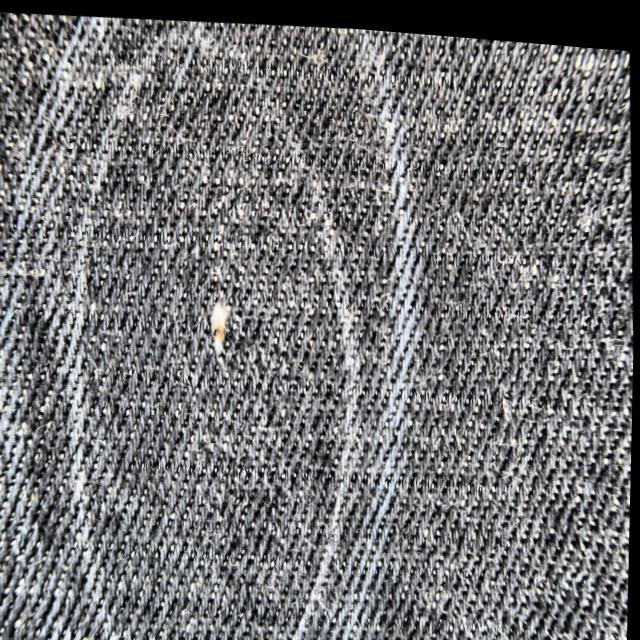Hole: (185, 266, 257, 372)
